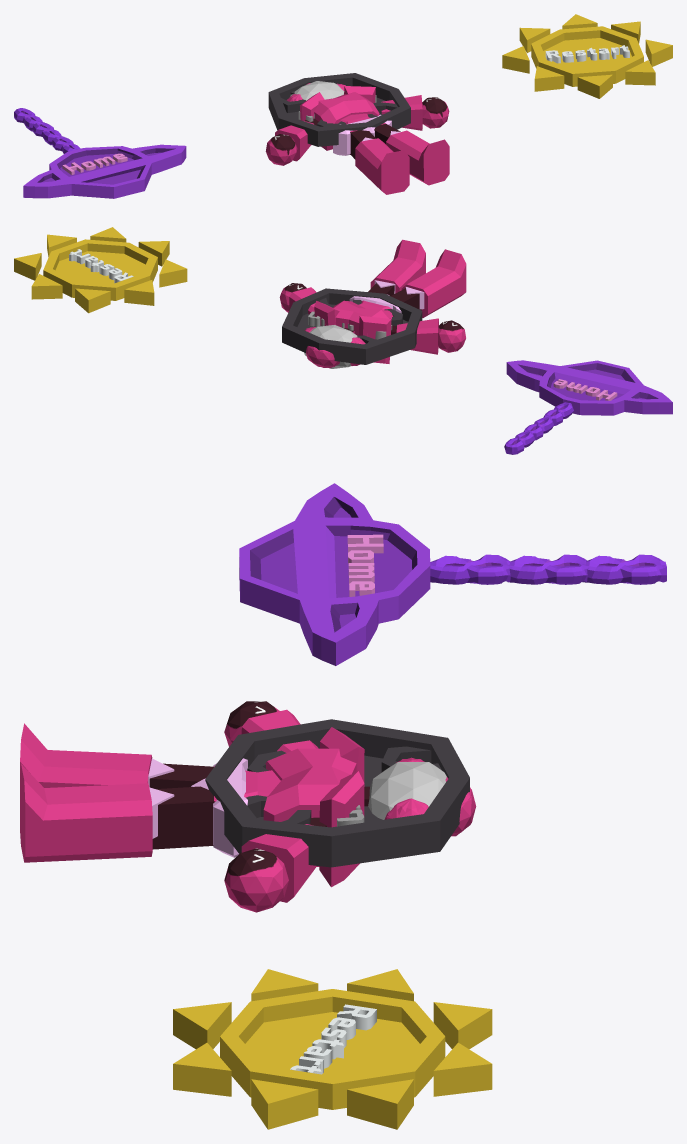
The model's file is asteroid.fbx.
The picture shows the model from 3 angles, top to bottom: view 1: azimuth 30°, elevation 25°; view 2: azimuth 150°, elevation 25°; view 3: azimuth 270°, elevation 25°; orthographic projection. The views are drawn at different scales.
Visible parts, largest first — view 1: Plane.001, Cube.006, HomeMesh, Plane, Icosphere, Text, Cube.008, Rope.001, Rope.002, Rope; view 2: Plane.001, Cube.006, HomeMesh, Plane, Icosphere, Text, Cube.008, Rope.002, Rope, Rope.001; view 3: Plane.001, Cube.006, HomeMesh, Plane, Icosphere, Text, Rope.002, Cube.008, Rope, Rope.001.
Part boxes in pixels (box(x1,y1,x2,y2)): Plane.001: box(502, 14, 672, 98); Cube.006: box(275, 83, 449, 194); HomeMesh: box(23, 144, 186, 198); Plane: box(268, 73, 410, 146); Icosphere: box(265, 81, 449, 165); Text: box(545, 45, 629, 63); Cube.008: box(333, 114, 400, 155); Rope.001: box(32, 122, 61, 145); Rope.002: box(14, 108, 42, 131); Rope: box(52, 136, 80, 153); Plane.001: box(14, 227, 187, 313); Cube.006: box(289, 239, 466, 368); HomeMesh: box(506, 360, 672, 415); Plane: box(282, 288, 422, 364); Icosphere: box(279, 283, 465, 368); Text: box(69, 249, 133, 283); Cube.008: box(349, 280, 424, 313); Rope.002: box(504, 431, 534, 454); Rope: box(543, 402, 573, 425); Rope.001: box(523, 417, 553, 440); Plane.001: box(173, 969, 492, 1129); Cube.006: box(20, 709, 476, 902); HomeMesh: box(239, 483, 430, 665); Plane: box(205, 719, 469, 867); Icosphere: box(149, 701, 446, 912); Text: box(290, 1004, 376, 1074); Rope.002: box(582, 554, 666, 584); Cube.008: box(148, 758, 247, 857); Rope: box(430, 554, 512, 584); Rope.001: box(507, 554, 589, 584).
Bounding box in the file's own units: 4087 × 313 × 1808.
